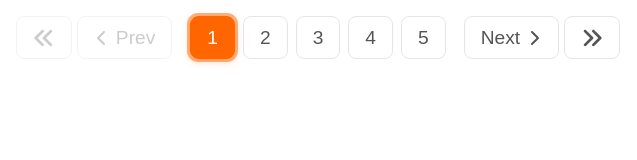
Test: Pagination Component - Standard Navigation › disables next and previous buttons correctly at first and last pages
Expected: the button with test id "previous-button" is disabled, [77, 16, 172, 59]
Click the button with test id "next-button".
click(511, 38)  # box [464, 16, 559, 59]
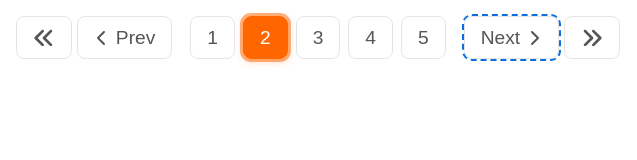
Click the button with test id "next-button".
click(511, 38)  # box [464, 16, 559, 59]
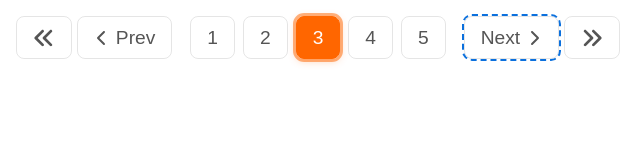
Click the button with test id "next-button".
click(511, 38)  # box [464, 16, 559, 59]
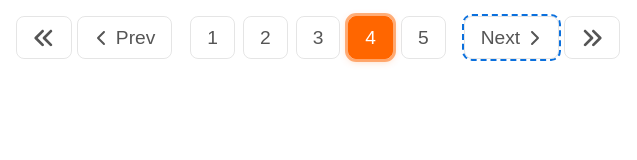
Click the button with test id "next-button".
click(511, 38)  # box [464, 16, 559, 59]
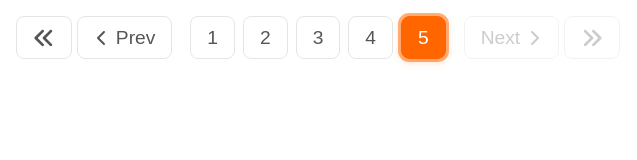
Result: the button with test id "next-button" is disabled at [464, 16, 559, 59]
